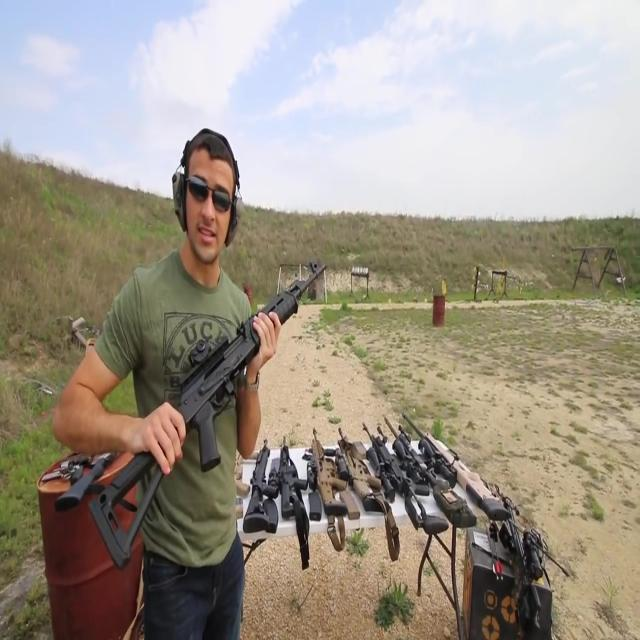Weapon: (76, 236, 324, 574), (226, 409, 585, 612), (30, 395, 183, 534)
